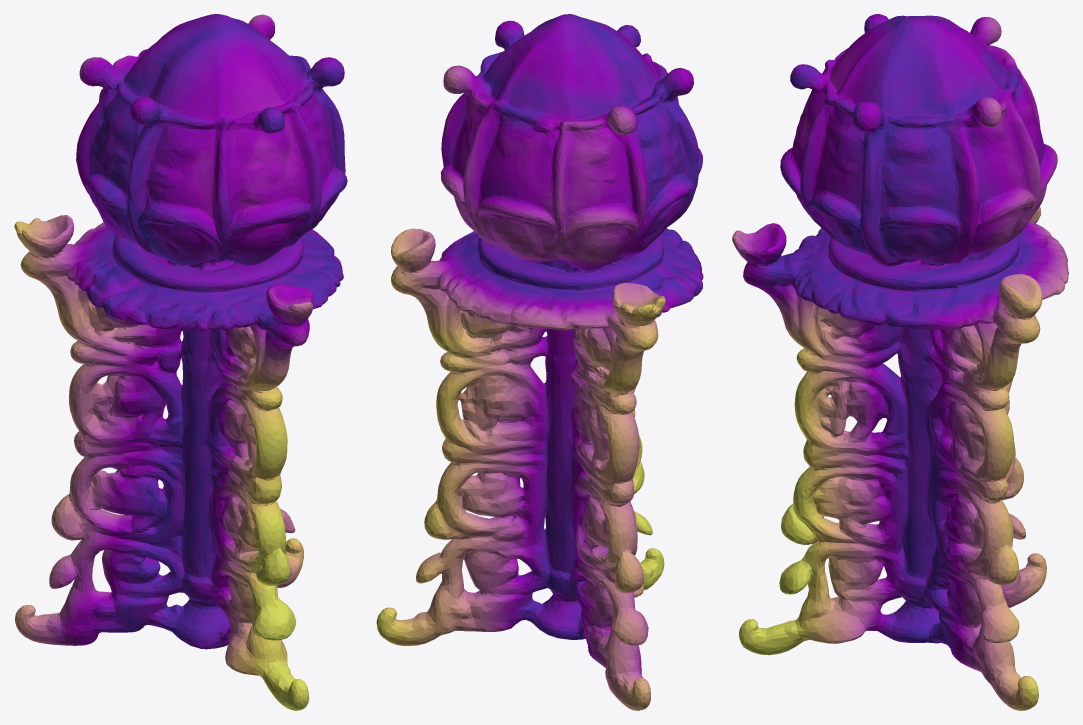
Rendered from iter_12.glb.
The picture shows the model from 3 angles, left to right: view 1: azimuth 30°, elevation 25°; view 2: azimuth 150°, elevation 25°; view 3: azimuth 270°, elevation 25°; orthographic projection. The views are drawn at different scales.
Visible parts, largest first — view 1: textured_mesh; view 2: textured_mesh; view 3: textured_mesh.
Boxes of the visible parts, x1,y1,x2,y2 form: textured_mesh: (14, 14, 347, 710); textured_mesh: (376, 14, 703, 710); textured_mesh: (732, 14, 1068, 710).
Bounding box in the file's own units: 0.9358 × 1.99 × 0.9521.
